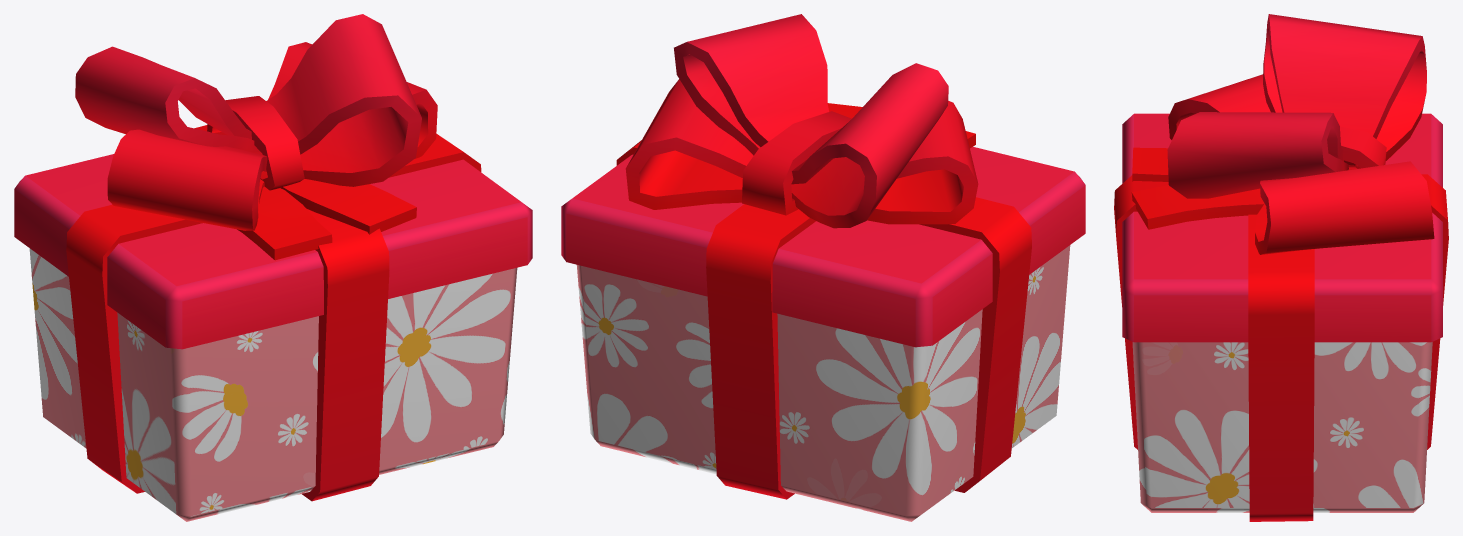
Rendered from giftbox_058.fbx.
3 views of the same model, side by side, from view 1: azimuth 30°, elevation 25°; view 2: azimuth 150°, elevation 25°; view 3: azimuth 270°, elevation 25° (orthographic). The views are drawn at different scales.
Parts seen in each view (by area): view 1: giftbox_058; view 2: giftbox_058; view 3: giftbox_058.
Boxes of the visible parts, box(x1,y1,x2,y2) form: giftbox_058: box(14, 14, 532, 521); giftbox_058: box(561, 14, 1085, 521); giftbox_058: box(1114, 14, 1448, 521).
Size of the model in its own units: 299 by 231 by 294.
